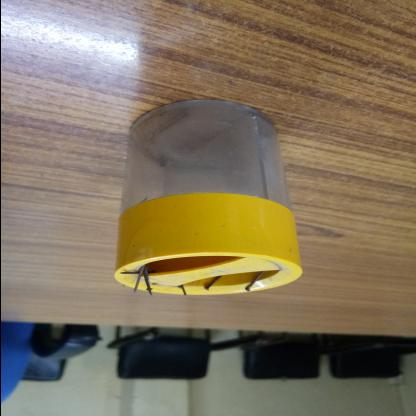bottle: (1, 190, 259, 334)
